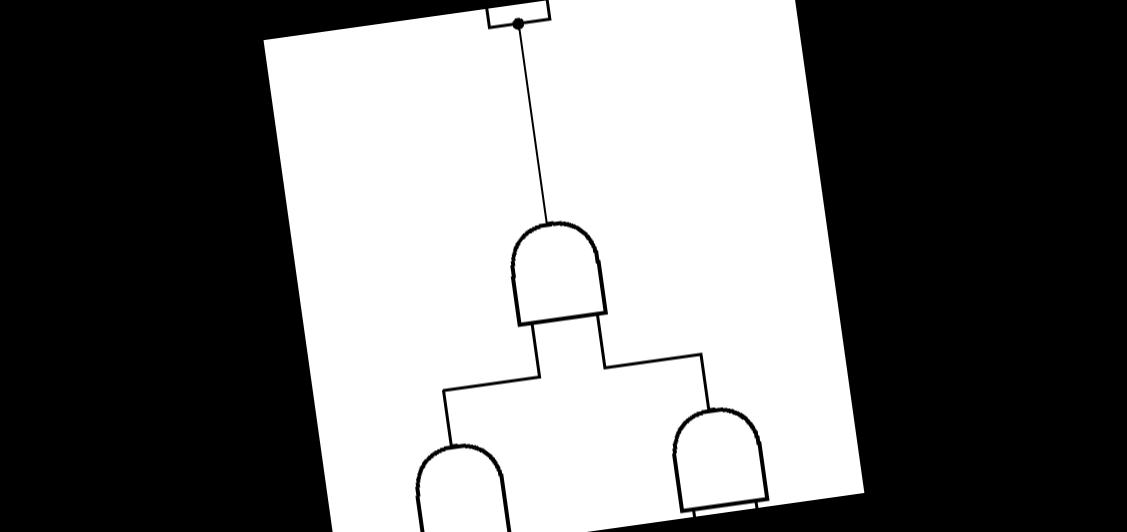and: (490, 201, 620, 338), (652, 390, 776, 520), (402, 429, 521, 532)
